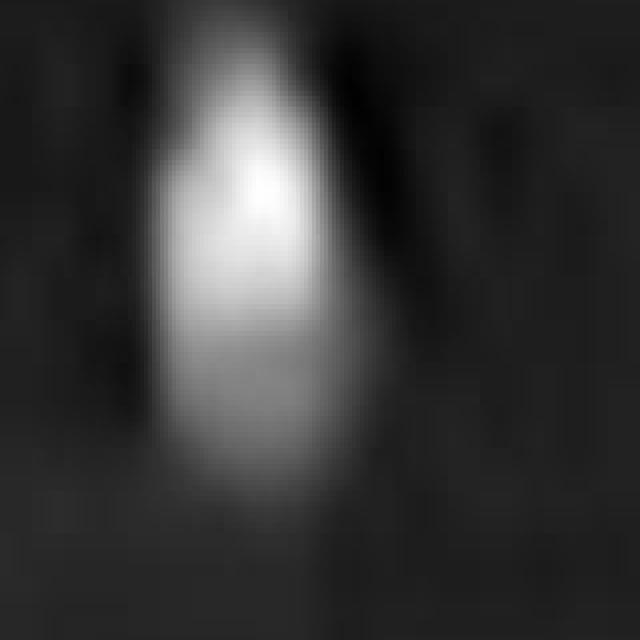person: (138, 34, 368, 517)
